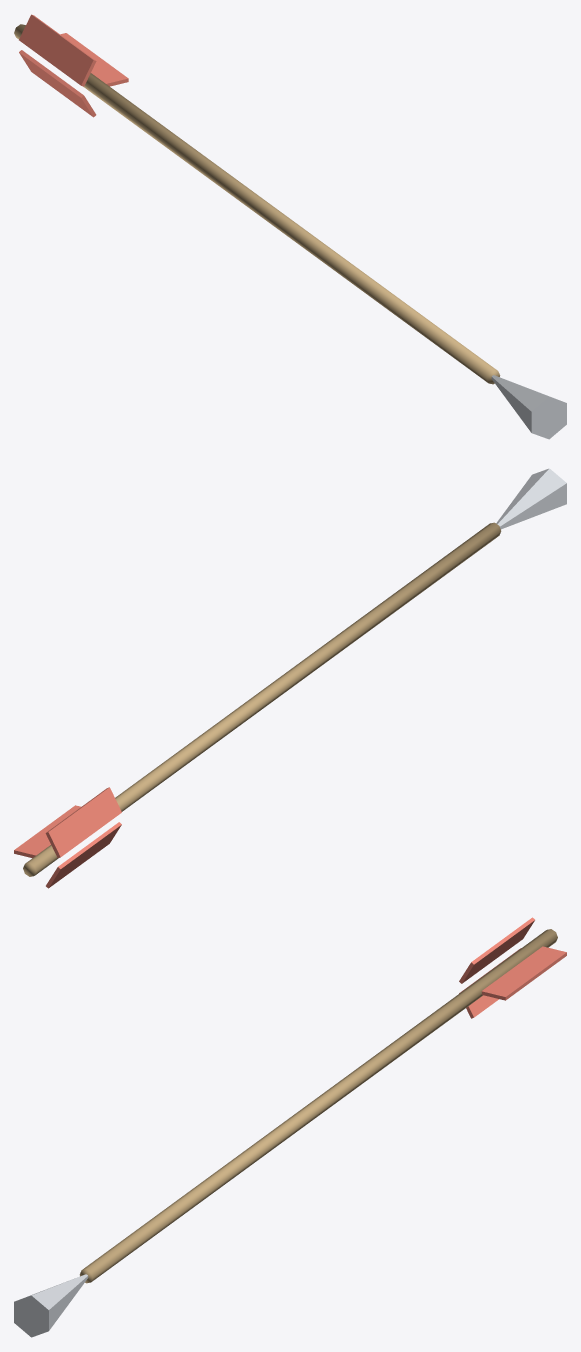
The model's file is flecha_proyectil.glb.
The picture shows the model from 3 angles, top to bottom: view 1: azimuth 30°, elevation 25°; view 2: azimuth 150°, elevation 25°; view 3: azimuth 330°, elevation 25°; orthographic projection.
Parts seen in each view (by area): view 1: Flecha; view 2: Flecha; view 3: Flecha.
Boxes of the visible parts, x1,y1,x2,y2 form: Flecha: (14,14,566,439); Flecha: (14,468,566,888); Flecha: (14,917,566,1337).
Size of the model in its own units: 0.0426 by 0.0483 by 0.805.
